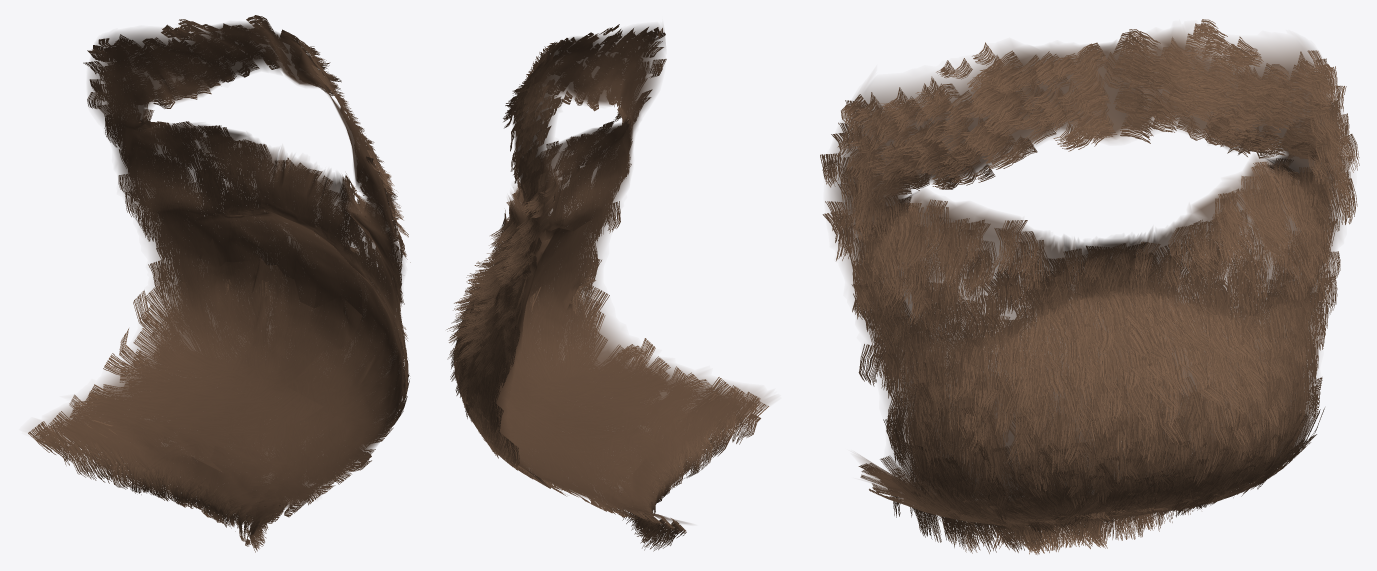
The model's file is beard-m2-goatee.glb.
3 views of the same model, side by side, from view 1: azimuth 30°, elevation 25°; view 2: azimuth 150°, elevation 25°; view 3: azimuth 270°, elevation 25° (orthographic). The views are drawn at different scales.
Parts seen in each view (by area): view 1: Beard_m2_goatee_root, Beard_m2_goatee_cards; view 2: Beard_m2_goatee_root, Beard_m2_goatee_cards; view 3: Beard_m2_goatee_cards, Beard_m2_goatee_root.
Boxes of the visible parts, bbox=[...] form: Beard_m2_goatee_root: bbox=[29, 22, 403, 528]; Beard_m2_goatee_cards: bbox=[28, 15, 410, 552]; Beard_m2_goatee_root: bbox=[458, 25, 773, 523]; Beard_m2_goatee_cards: bbox=[446, 24, 768, 551]; Beard_m2_goatee_cards: bbox=[820, 19, 1359, 554]; Beard_m2_goatee_root: bbox=[828, 27, 1349, 515].
Size of the model in its own units: 0.0657 by 0.096 by 0.0833.
Materials: 2 (1 with a texture image).
